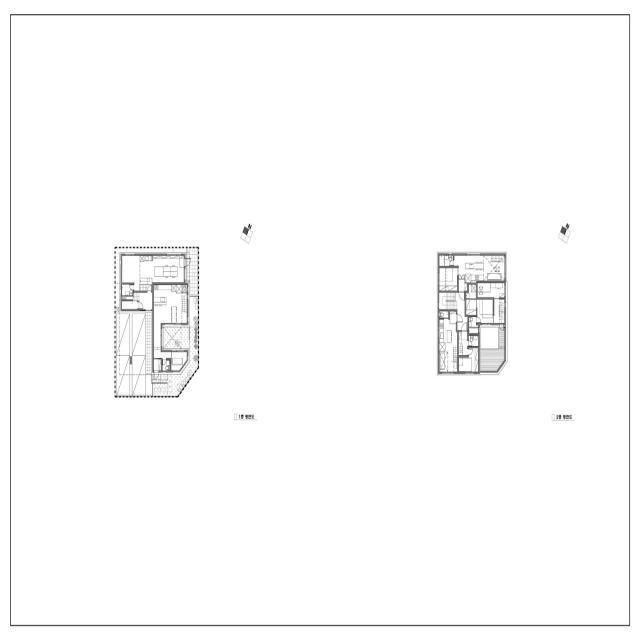space_bedroom: (459, 348, 478, 372), (439, 268, 457, 291), (478, 283, 505, 298), (477, 299, 493, 323)
space_dressroom: (466, 299, 477, 315)
space_front: (459, 279, 467, 291), (154, 359, 161, 371), (450, 311, 456, 324), (459, 332, 467, 340)
space_kitchen: (154, 285, 187, 323), (140, 256, 184, 284), (454, 256, 484, 283), (439, 319, 457, 351)
space_living_room: (154, 323, 187, 370), (122, 256, 140, 291), (484, 256, 505, 281), (439, 351, 457, 372), (459, 340, 467, 355)
space_other: (457, 292, 468, 330), (139, 293, 152, 309), (122, 301, 137, 309), (183, 285, 187, 292), (126, 297, 133, 300), (122, 297, 125, 300)
space_staircase: (439, 293, 457, 309), (499, 300, 505, 323), (182, 293, 187, 313), (139, 284, 152, 291), (491, 256, 505, 262), (453, 347, 457, 363), (133, 292, 139, 301), (459, 342, 463, 355)
space_toilet: (439, 255, 453, 266), (469, 317, 478, 334), (466, 285, 476, 298), (122, 284, 133, 295), (469, 336, 478, 346), (162, 360, 170, 371), (439, 311, 448, 318)
